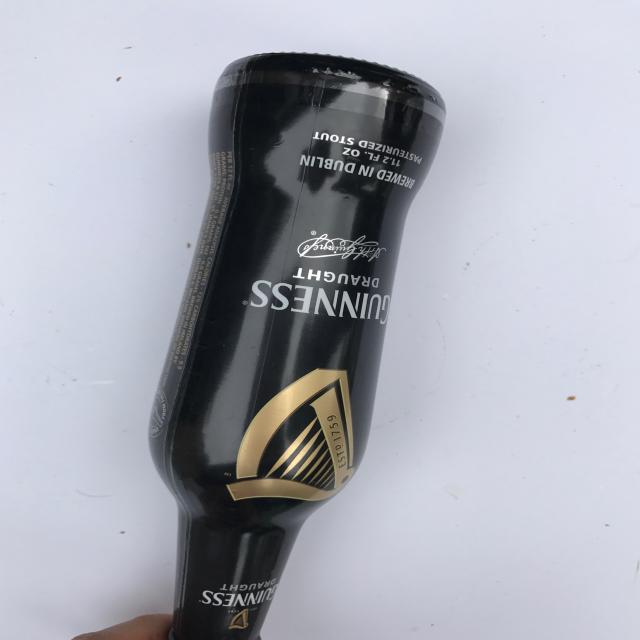glass: (147, 51, 446, 640)
